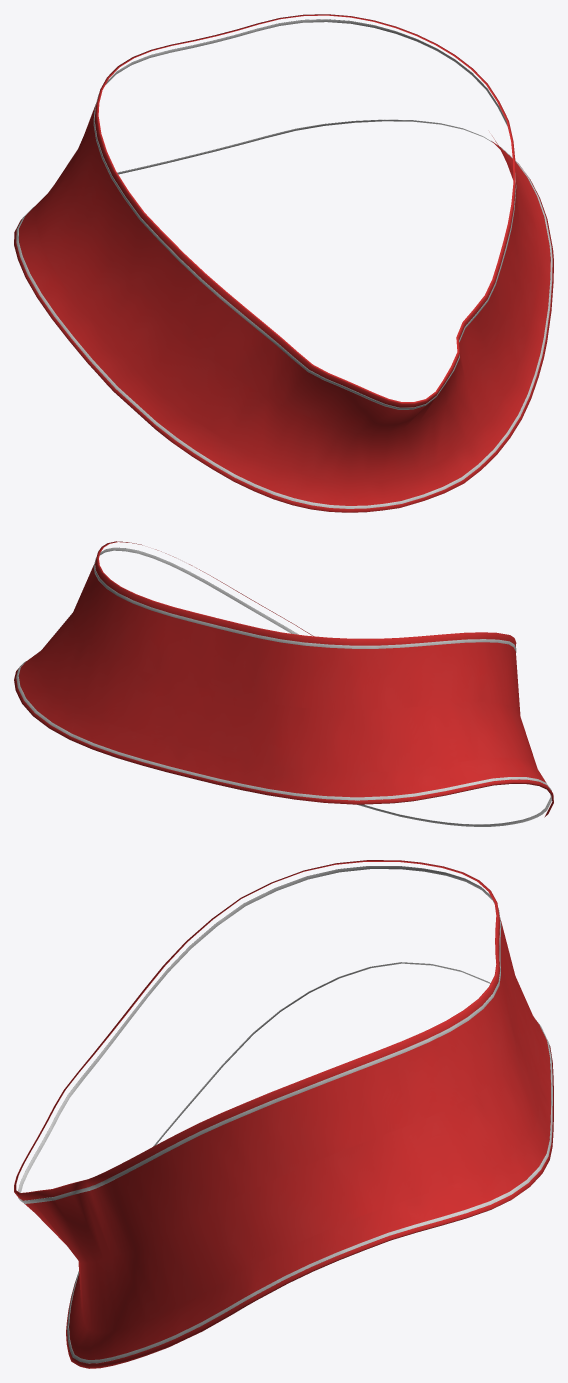
The model's file is Jac_Col.glb.
The picture shows the model from 3 angles, top to bottom: view 1: azimuth 30°, elevation 25°; view 2: azimuth 150°, elevation 25°; view 3: azimuth 270°, elevation 25°; orthographic projection. The views are drawn at different scales.
Parts seen in each view (by area): view 1: Jac_Col.001, Jac_Rope_Col.001; view 2: Jac_Col.001, Jac_Rope_Col.001; view 3: Jac_Col.001, Jac_Rope_Col.001.
Boxes of the visible parts, <box> form: Jac_Col.001: <box>14,14,553,512</box>; Jac_Rope_Col.001: <box>16,19,552,508</box>; Jac_Col.001: <box>14,541,553,817</box>; Jac_Rope_Col.001: <box>16,547,551,826</box>; Jac_Col.001: <box>14,860,553,1368</box>; Jac_Rope_Col.001: <box>18,866,552,1363</box>.
Size of the model in its own units: 0.3101 by 0.2044 by 0.2535.
2 materials, 2 textured.
